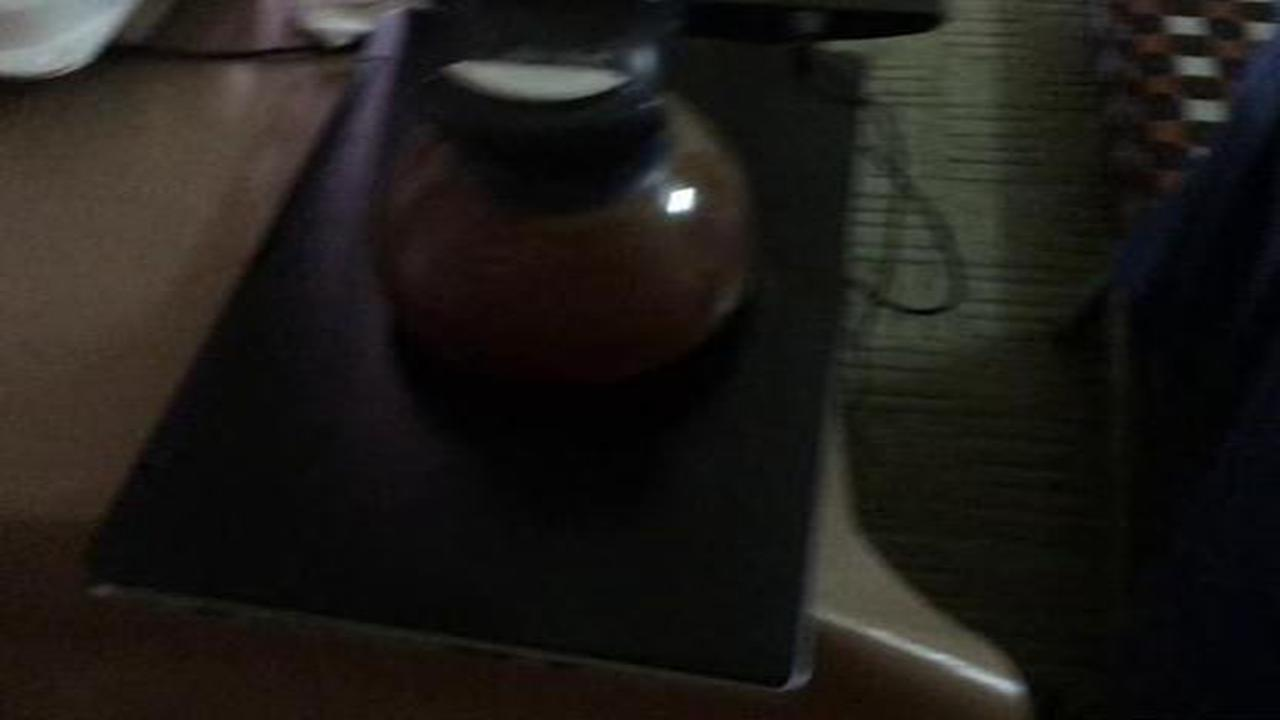insulator_pin: (333, 18, 767, 399)
